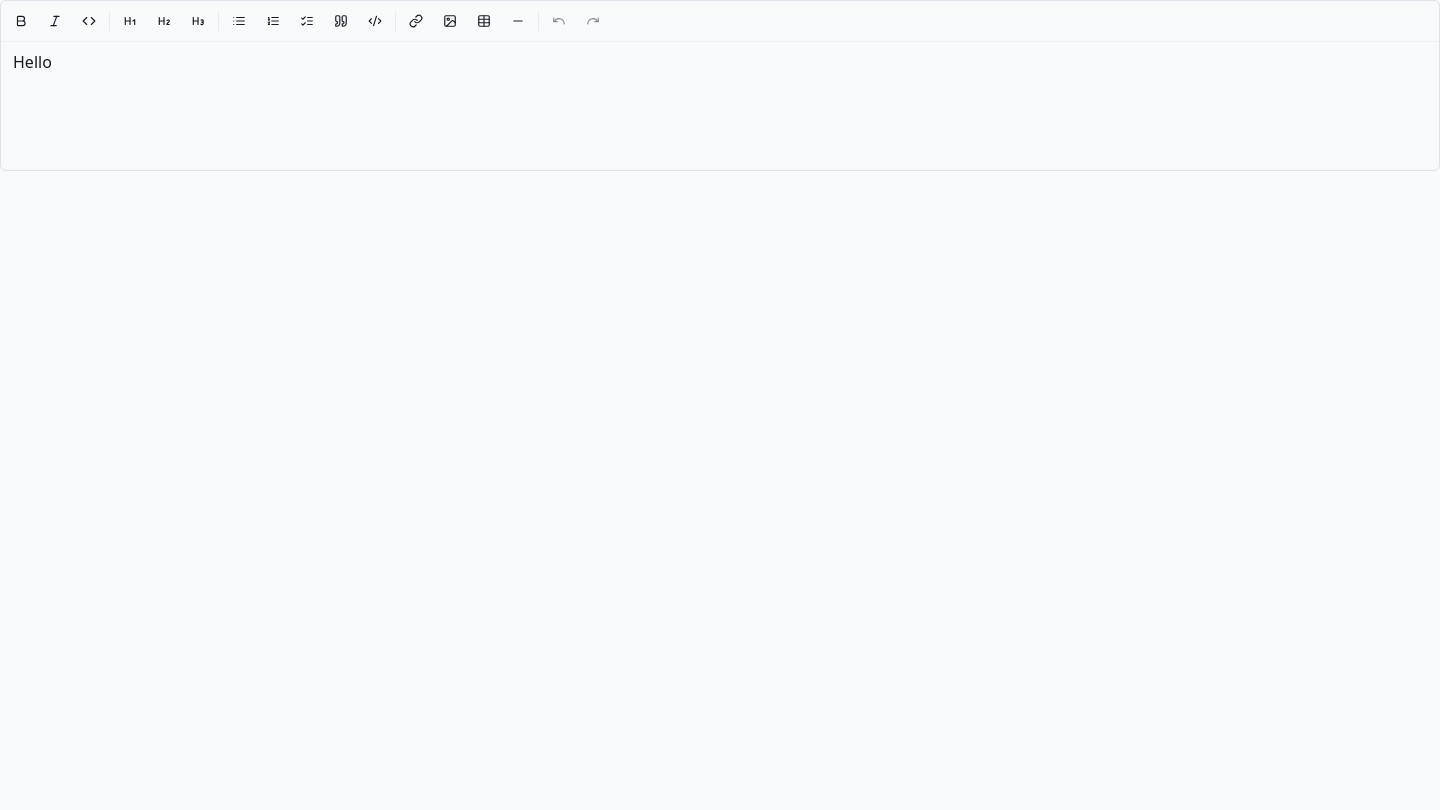
Test: MarkdownEditor › closes the URL popover on Escape without changing content
Click the button named "Link": (416,21) 400,5 -> 432,37
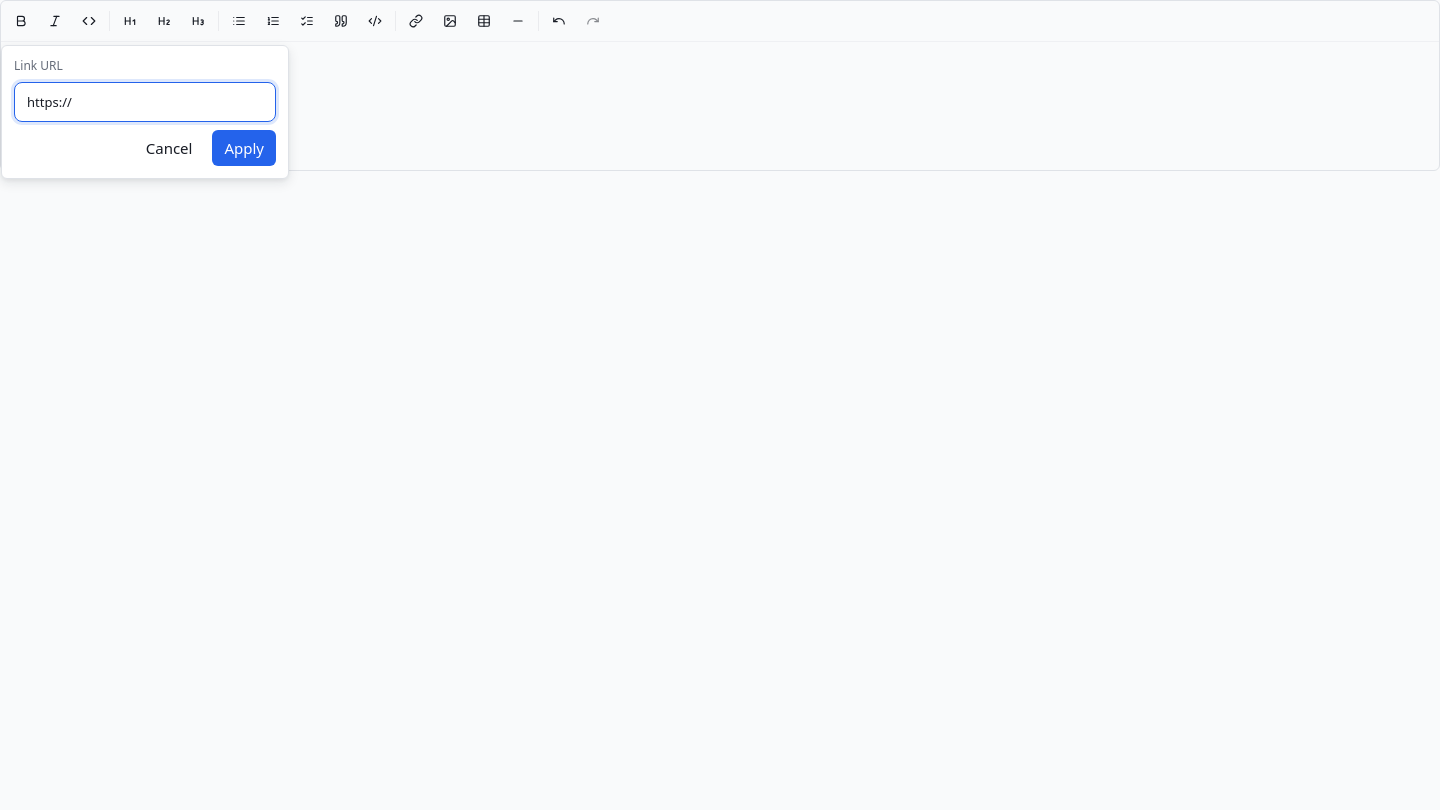
Expected: the field labelled "Link URL" holds "https://", 14,82 -> 276,122
Press Escape
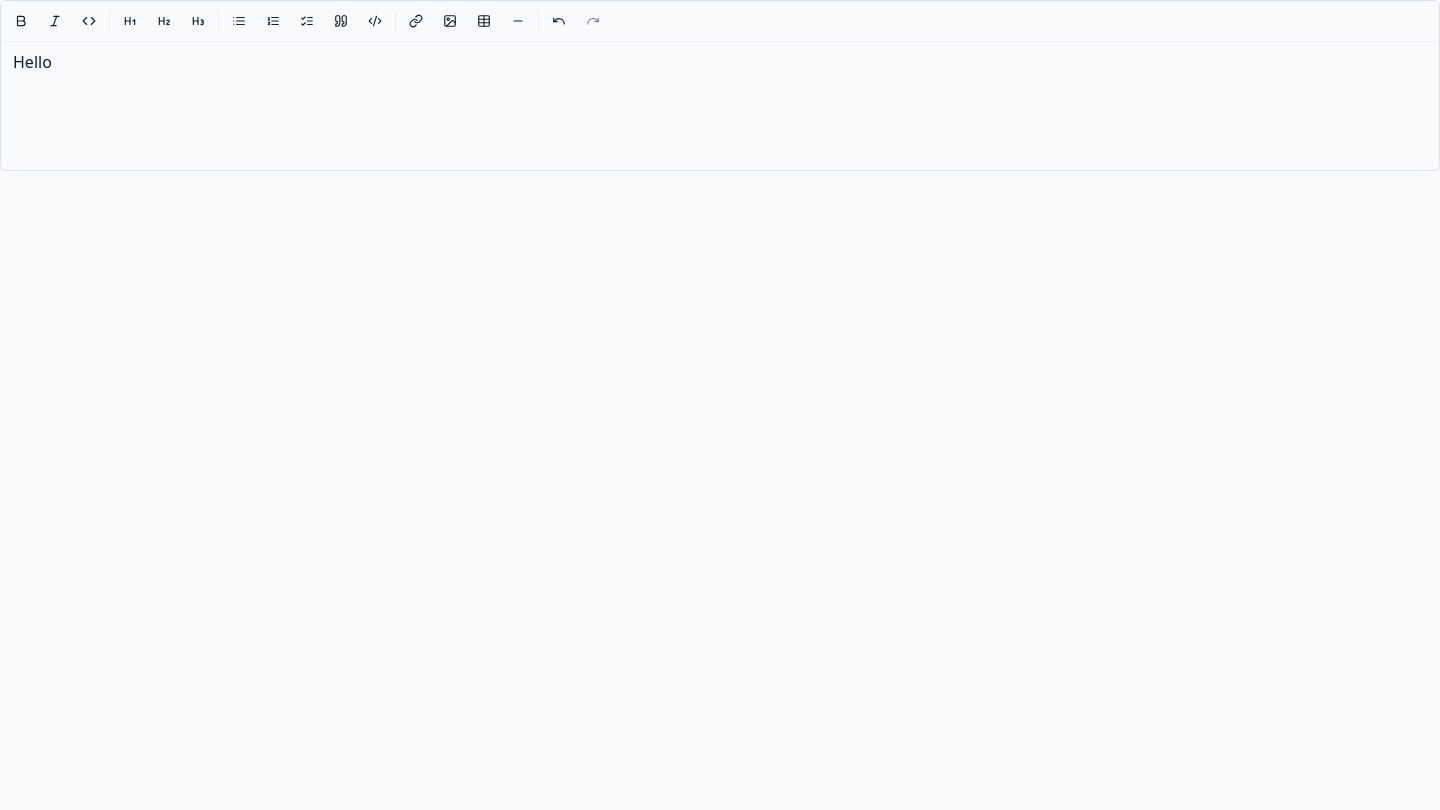
Expected: the label labelled "Link URL" is gone
